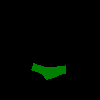mutande: (31, 63, 66, 80)
